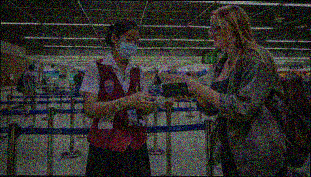with_mask: (114, 34, 139, 61)
without_mask: (208, 19, 233, 49)
